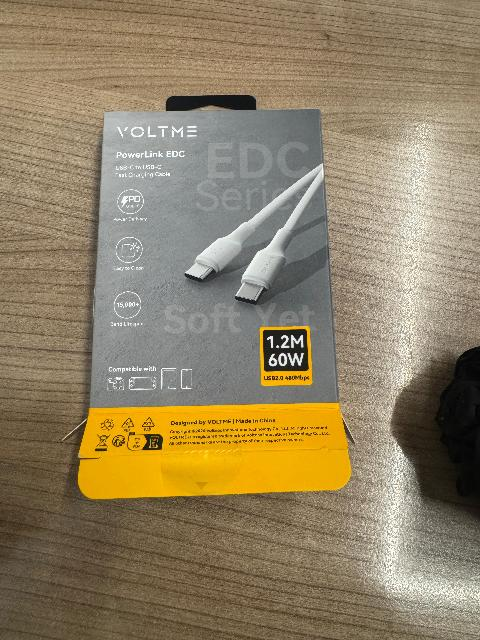Kagit: (63, 79, 363, 503)
